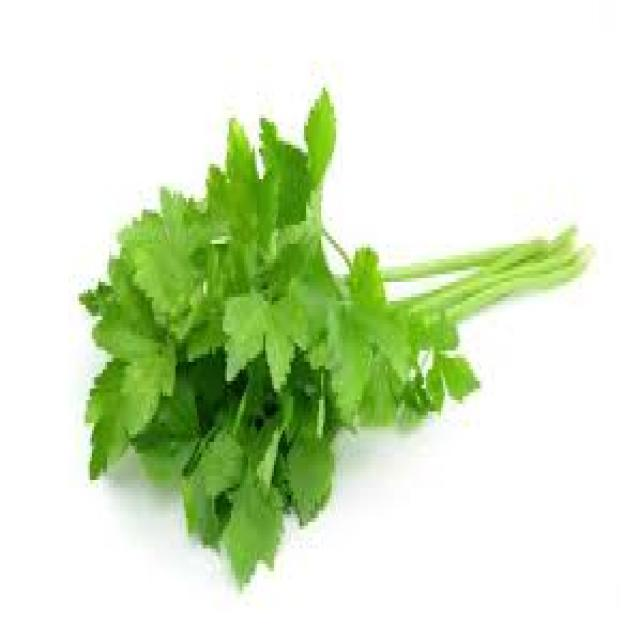organic waste: (77, 80, 587, 587), (131, 217, 199, 324), (225, 464, 280, 586), (83, 354, 135, 476), (116, 335, 176, 438), (284, 419, 332, 522), (221, 282, 261, 381)
